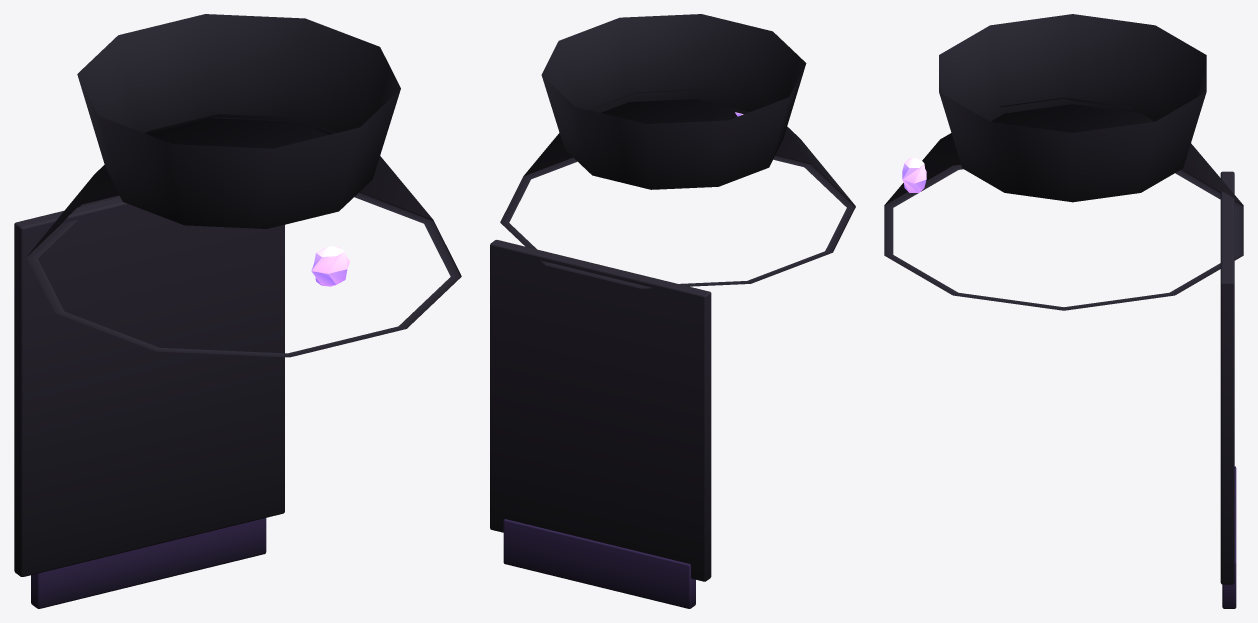
File: shadow_cloak.glb
3 views of the same model, side by side, from view 1: azimuth 30°, elevation 25°; view 2: azimuth 150°, elevation 25°; view 3: azimuth 270°, elevation 25° (orthographic). The views are drawn at different scales.
Parts seen in each view (by area): view 1: shadow_cloak, shadow_cloak_glow; view 2: shadow_cloak; view 3: shadow_cloak, shadow_cloak_glow.
Part boxes in pixels (x1,y1,x2,y2): shadow_cloak: [14, 14, 461, 608]; shadow_cloak_glow: [311, 246, 349, 286]; shadow_cloak: [490, 14, 855, 608]; shadow_cloak: [884, 14, 1243, 608]; shadow_cloak_glow: [902, 158, 926, 192].
Size of the model in its own units: 2.15 by 3.06 by 2.04.
